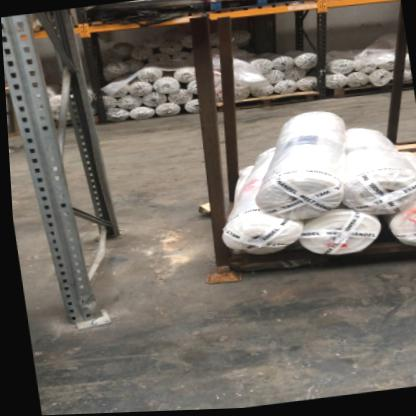vertical_damage: (57, 296, 113, 334)
